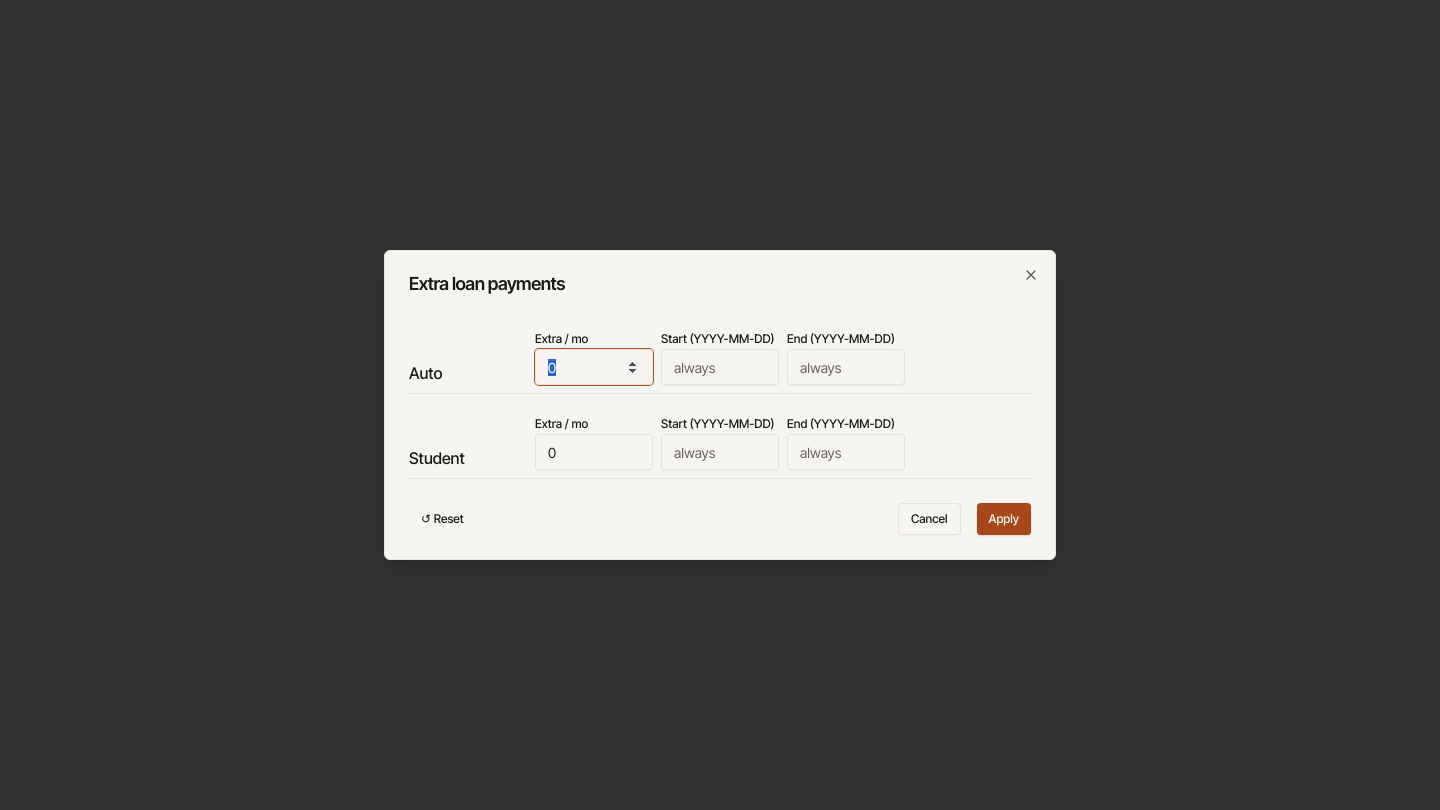
Test: ExtraLoanPaymentsPopover › typing into a row's extra-monthly input updates the live preview
Replace the text in the number field labelled "Extra / mo" next to "Auto" with "300" at [594, 367], box [535,349,653,385]
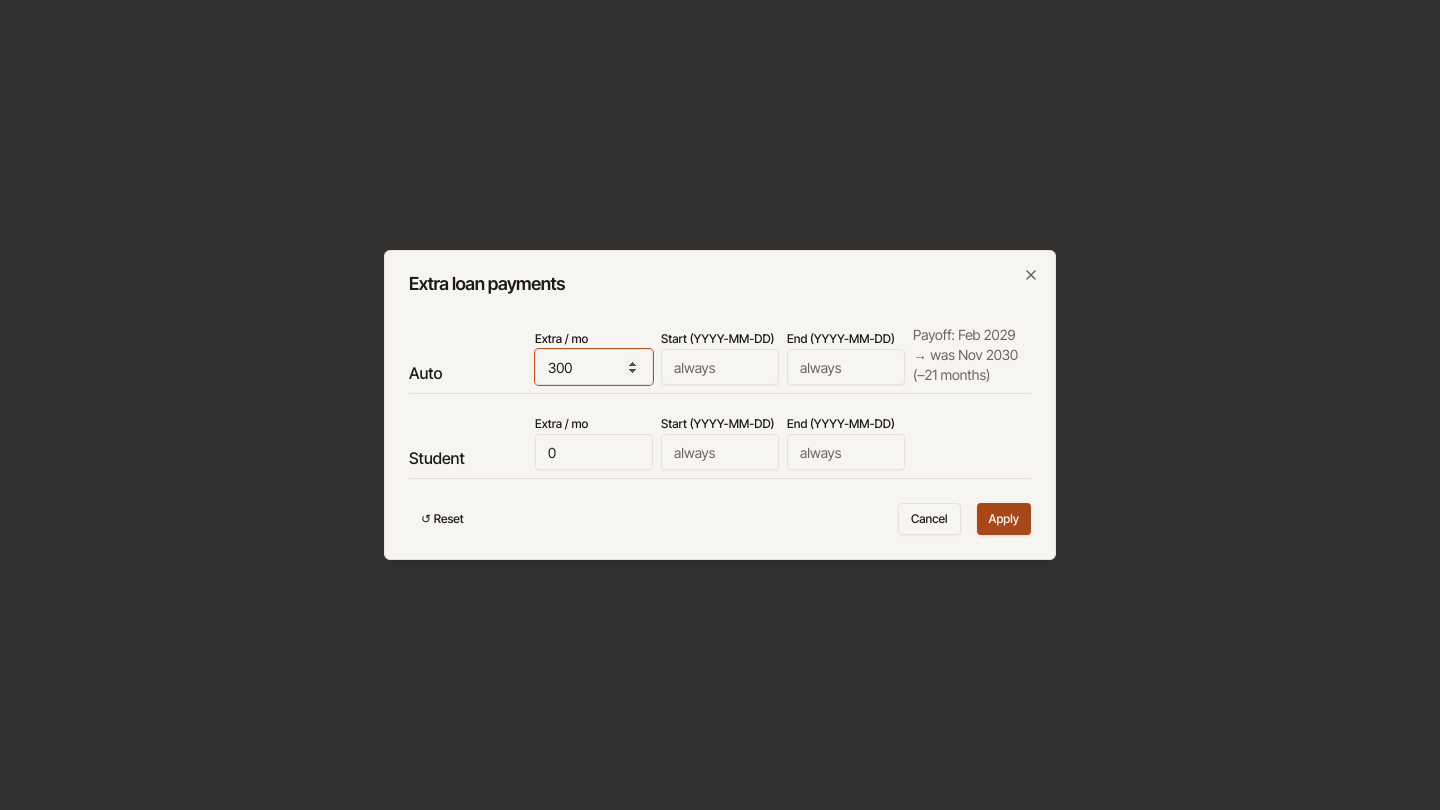
Expected: the text "Payoff: Feb 2029 → was Nov 2030 (–21 months)" is shown, [913,326,1018,383]
